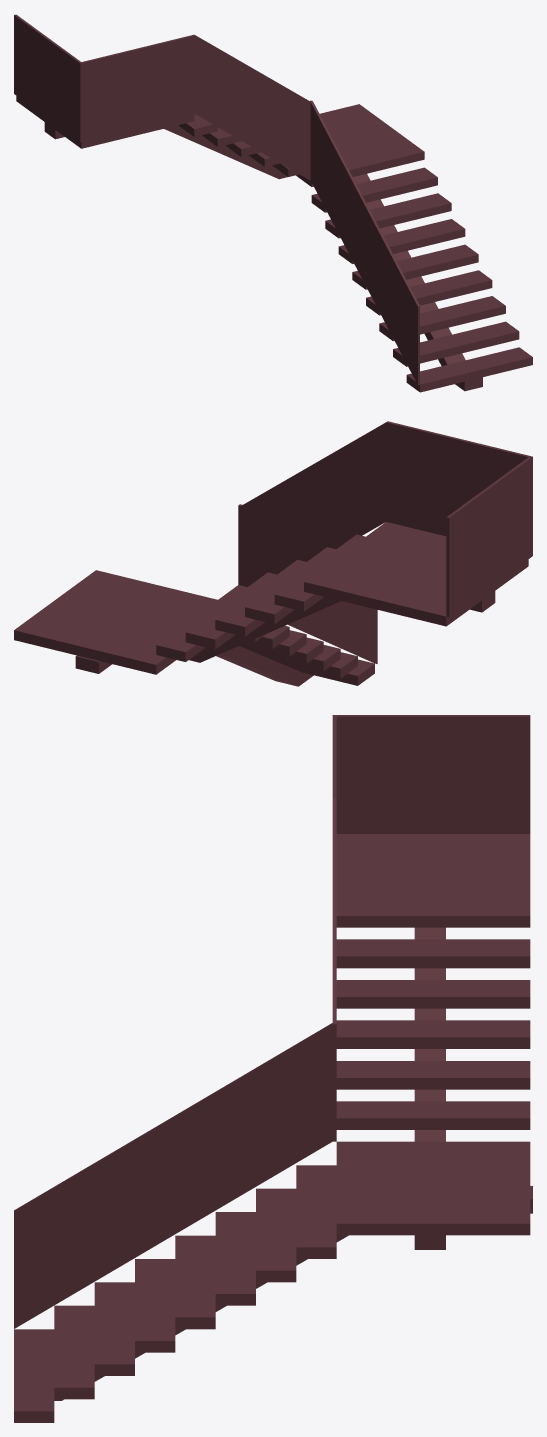
Rendered from stairs-house-wall-l-4m.fbx.
3 views of the same model, one above another, from view 1: azimuth 30°, elevation 25°; view 2: azimuth 150°, elevation 25°; view 3: azimuth 270°, elevation 25° (orthographic). The views are drawn at different scales.
Visible parts, largest first — view 1: stairs-house-wall-l-4m; view 2: stairs-house-wall-l-4m; view 3: stairs-house-wall-l-4m.
Boxes of the visible parts, x1,y1,x2,y2 form: stairs-house-wall-l-4m: (14, 14, 532, 392); stairs-house-wall-l-4m: (14, 421, 532, 686); stairs-house-wall-l-4m: (14, 715, 532, 1422).
Bounding box in the file's own units: 4.59 × 4.02 × 4.02.
